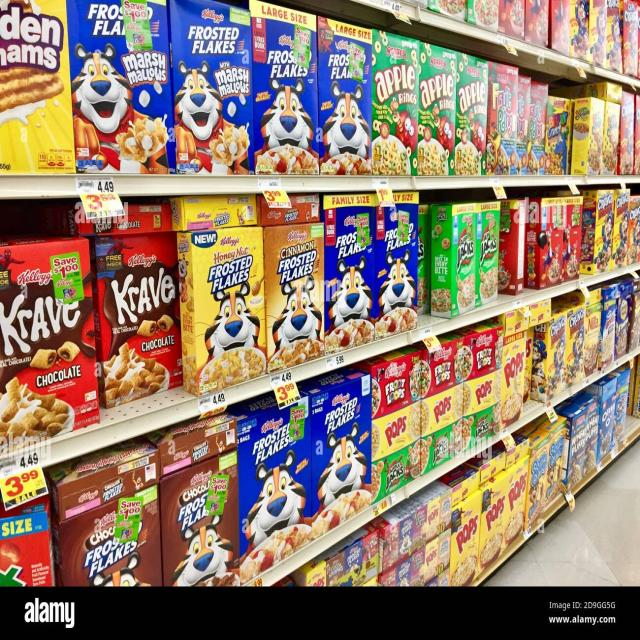Caja: (170, 228, 270, 390), (411, 46, 464, 181), (434, 195, 489, 316), (418, 335, 462, 463)
